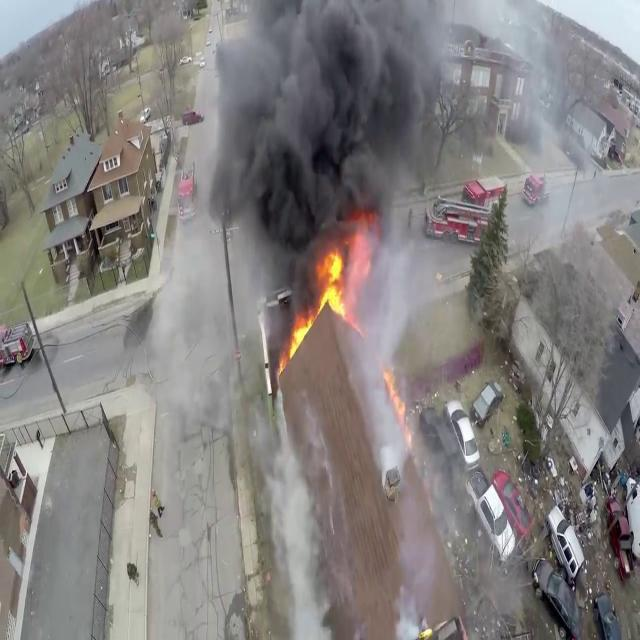Fire: (282, 291, 320, 371), (318, 232, 352, 318), (379, 364, 404, 429)
Smoke: (196, 0, 456, 278), (354, 274, 414, 490), (272, 436, 317, 616)
